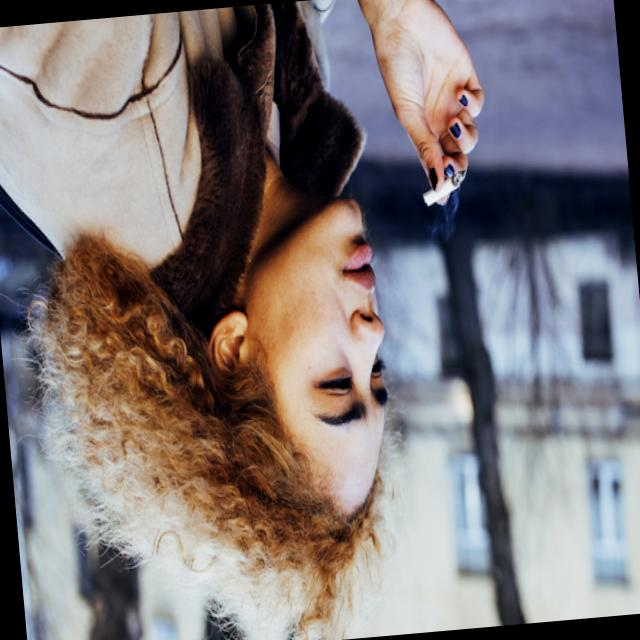cigarette: (413, 154, 470, 212)
